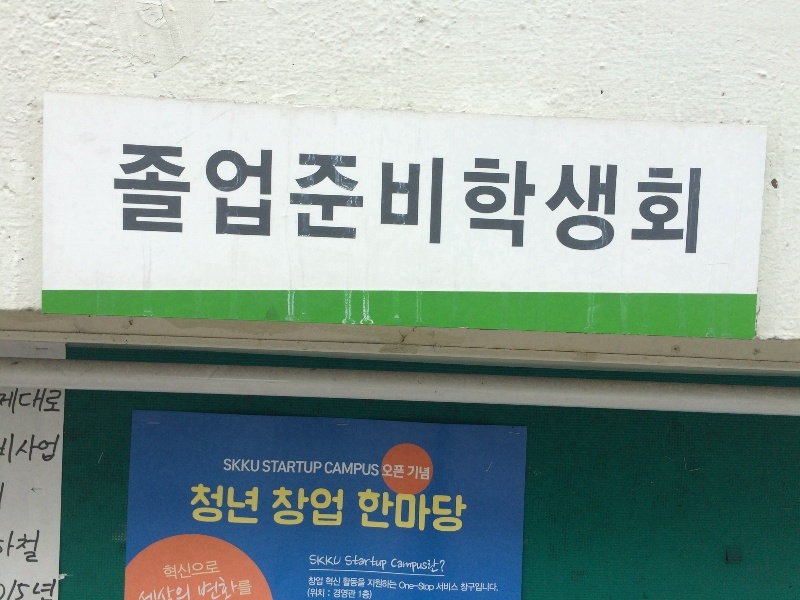text: (113, 133, 128, 270), (129, 133, 144, 270), (145, 133, 160, 270), (161, 133, 176, 270), (177, 133, 192, 270), (193, 133, 208, 270), (209, 133, 224, 270), (225, 133, 240, 270), (241, 133, 256, 270), (257, 133, 272, 270), (273, 133, 288, 270), (289, 133, 304, 270), (305, 133, 320, 270), (321, 133, 336, 270), (337, 133, 352, 270), (353, 133, 368, 270), (369, 133, 384, 270), (385, 133, 400, 270), (401, 133, 416, 270), (417, 133, 432, 270), (433, 133, 448, 270), (449, 133, 464, 270), (465, 133, 480, 270), (481, 133, 496, 270), (497, 133, 512, 270), (513, 133, 528, 270), (529, 133, 544, 270), (545, 133, 560, 270), (561, 133, 576, 270), (577, 133, 592, 270), (593, 133, 608, 270), (609, 133, 624, 270), (625, 133, 640, 270), (641, 133, 656, 270), (657, 133, 672, 270), (673, 133, 688, 270), (689, 133, 704, 270), (705, 133, 720, 270), (369, 487, 384, 539), (385, 487, 400, 539), (401, 487, 416, 539), (417, 487, 432, 539), (433, 487, 448, 539), (449, 487, 464, 539), (193, 480, 208, 531), (209, 480, 224, 531), (225, 480, 240, 531), (241, 480, 256, 531), (273, 485, 288, 532), (289, 485, 304, 532), (305, 485, 320, 532), (321, 485, 336, 532), (355, 487, 368, 539), (17, 524, 32, 569), (33, 524, 48, 569), (17, 430, 32, 469), (33, 430, 48, 469), (49, 430, 64, 469), (337, 485, 349, 532), (257, 480, 267, 531), (1, 385, 16, 417), (17, 385, 32, 417), (33, 385, 48, 417), (49, 385, 64, 417), (17, 571, 32, 600), (33, 571, 48, 600), (49, 571, 64, 600), (241, 574, 257, 600), (209, 574, 224, 600), (225, 574, 240, 600), (161, 559, 176, 583), (177, 559, 192, 583), (193, 559, 208, 583), (195, 574, 208, 600), (186, 480, 192, 531), (417, 465, 433, 484), (6, 571, 16, 600), (209, 559, 221, 583), (353, 554, 368, 573), (369, 554, 384, 573), (110, 133, 112, 270), (177, 583, 193, 600), (337, 461, 352, 479), (353, 461, 368, 479), (321, 552, 336, 570), (385, 464, 400, 482), (145, 583, 160, 600), (161, 583, 176, 600), (306, 552, 320, 570), (433, 558, 447, 576), (225, 458, 240, 474), (241, 458, 256, 474), (401, 558, 416, 574), (273, 460, 288, 475), (289, 460, 304, 475), (305, 460, 320, 475), (369, 461, 381, 479), (401, 581, 416, 595), (417, 581, 432, 595), (369, 579, 384, 593), (465, 487, 469, 539), (325, 461, 336, 479), (268, 485, 272, 532), (385, 579, 398, 593), (465, 583, 480, 595), (481, 583, 496, 595), (305, 588, 320, 600), (337, 588, 352, 600), (417, 558, 428, 574), (343, 554, 352, 573), (407, 465, 416, 484), (390, 558, 400, 574), (307, 576, 320, 588), (353, 577, 366, 589), (436, 582, 448, 595), (262, 460, 272, 475), (325, 576, 336, 589), (449, 582, 460, 595), (321, 588, 332, 600), (357, 589, 368, 600), (137, 583, 144, 600), (337, 552, 343, 570), (426, 558, 432, 576), (343, 577, 352, 589), (401, 464, 406, 482), (337, 576, 343, 589), (385, 554, 389, 573), (65, 385, 67, 417), (257, 458, 261, 474), (459, 583, 464, 595), (369, 589, 374, 600), (497, 583, 501, 595), (353, 588, 357, 600), (321, 460, 324, 475), (433, 581, 436, 595), (15, 430, 16, 469), (65, 430, 66, 469), (382, 464, 384, 482), (321, 576, 324, 588), (333, 588, 336, 600), (222, 458, 224, 474), (398, 581, 400, 595), (366, 579, 368, 593)
